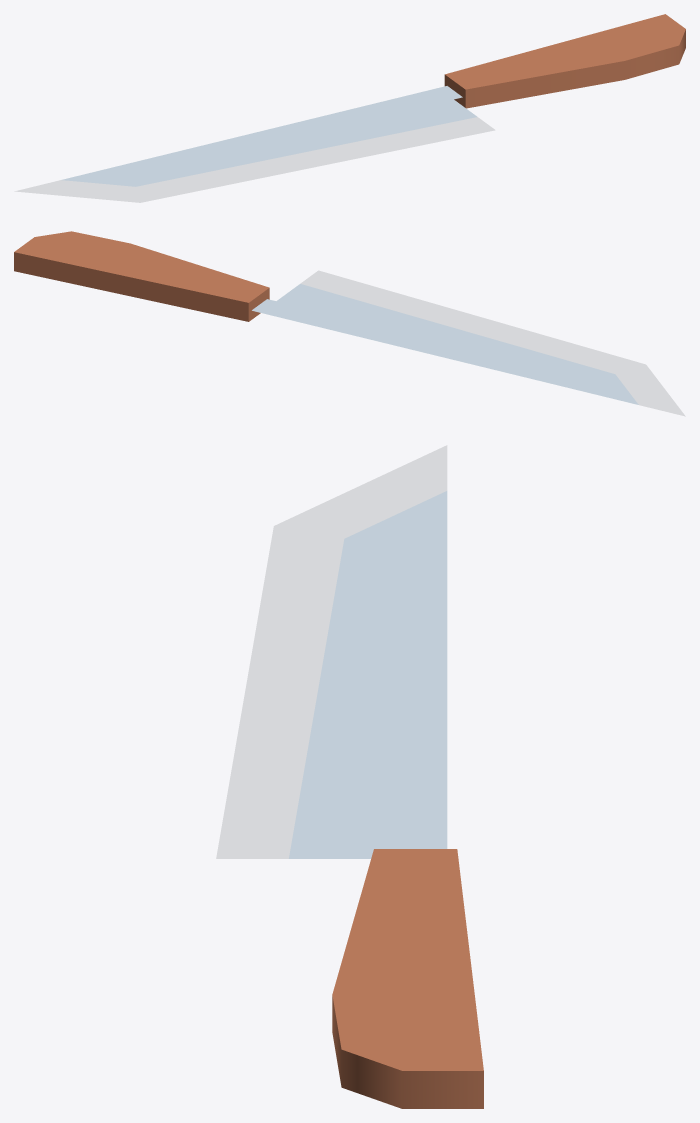
File: Cooking Knife.glb
3 views of the same model, one above another, from view 1: azimuth 30°, elevation 25°; view 2: azimuth 150°, elevation 25°; view 3: azimuth 270°, elevation 25° (orthographic). The views are drawn at different scales.
Visible parts, largest first — view 1: cookingKnife; view 2: cookingKnife; view 3: cookingKnife.
Boxes of the visible parts, x1,y1,x2,y2 form: cookingKnife: [14, 14, 685, 202]; cookingKnife: [14, 231, 685, 416]; cookingKnife: [216, 445, 483, 1108].
Size of the model in its own units: 0.7262 by 0.02 by 0.1275.
